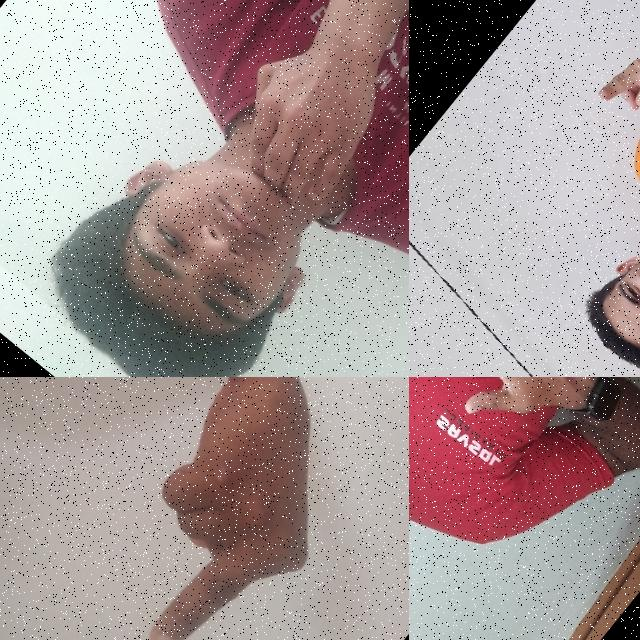Chin Flick: (11, 0, 409, 377)
Corna: (575, 23, 640, 164)
Five Fathers: (409, 377, 610, 465)
Middle Finger: (54, 377, 401, 640)
